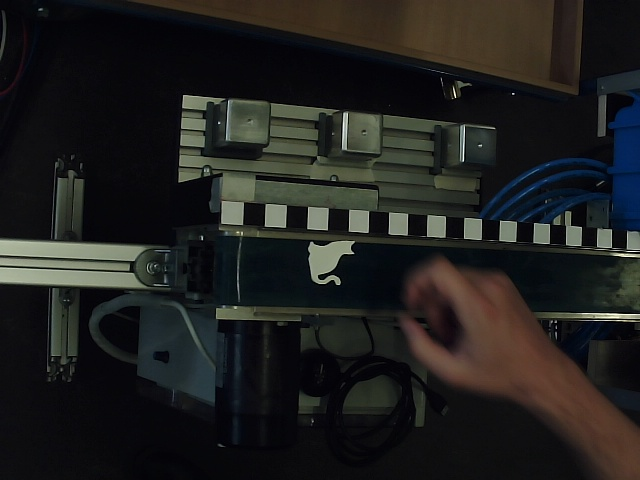cat: (308, 240, 357, 287)
